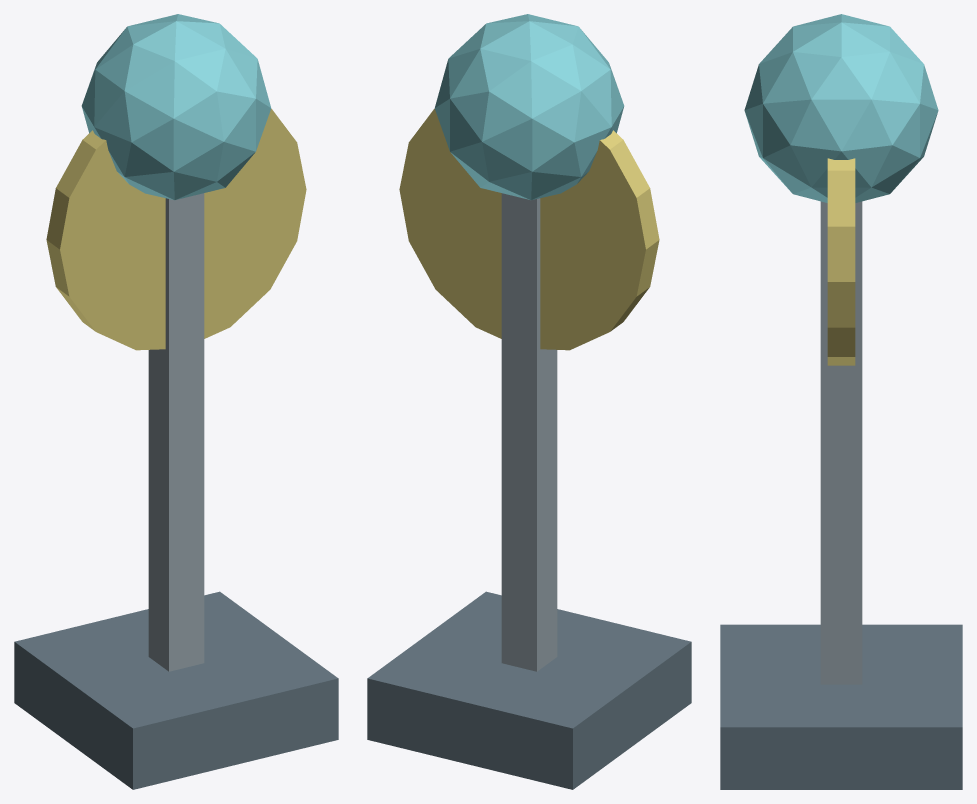
File: B06_CHECKPOINT_BEACON_PROGRAM.glb
3 views of the same model, side by side, from view 1: azimuth 30°, elevation 25°; view 2: azimuth 150°, elevation 25°; view 3: azimuth 270°, elevation 25° (orthographic). The views are drawn at different scales.
Visible parts, largest first — view 1: Base, Ring, Beacon, Pole; view 2: Base, Ring, Beacon, Pole; view 3: Base, Beacon, Pole, Ring.
Boxes of the visible parts, x1=… form: Base: x1=14, y1=591, x2=338, y2=789; Ring: x1=46, y1=109, x2=306, y2=350; Beacon: x1=81, y1=14, x2=271, y2=200; Pole: x1=148, y1=193, x2=204, y2=671; Base: x1=367, y1=591, x2=691, y2=789; Ring: x1=399, y1=109, x2=659, y2=350; Beacon: x1=434, y1=14, x2=624, y2=200; Pole: x1=501, y1=193, x2=557, y2=671; Base: x1=720, y1=624, x2=962, y2=789; Beacon: x1=744, y1=14, x2=938, y2=202; Pole: x1=820, y1=201, x2=862, y2=684; Ring: x1=827, y1=158, x2=855, y2=365.
Bounding box in the file's own units: 0.84 × 2.28 × 0.7.
